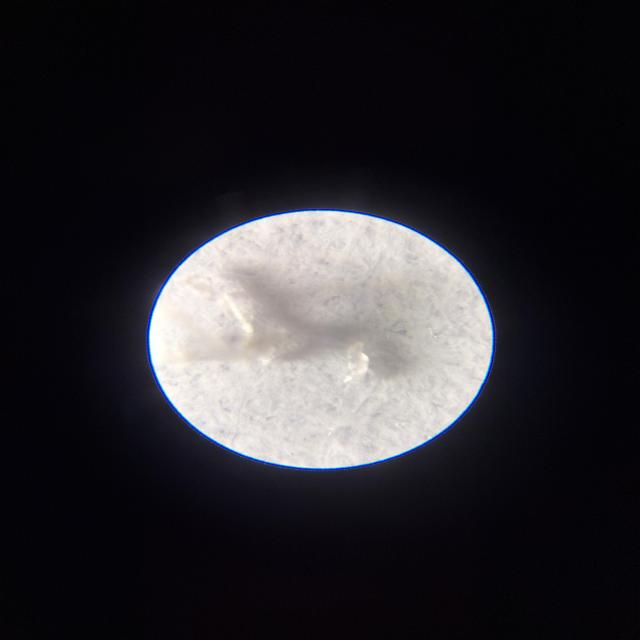microplastic_type_1: (177, 258, 409, 381)
